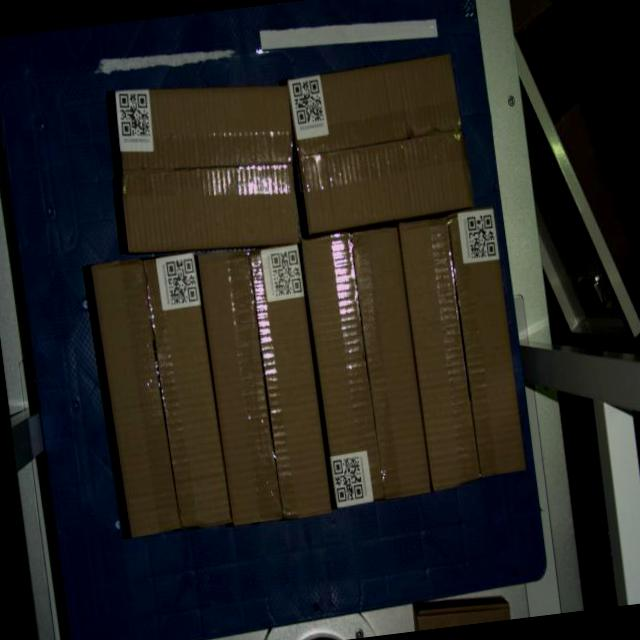box: (91, 251, 231, 540), (107, 69, 306, 264), (197, 243, 331, 525), (300, 226, 432, 509), (397, 207, 527, 490), (287, 53, 473, 234)
